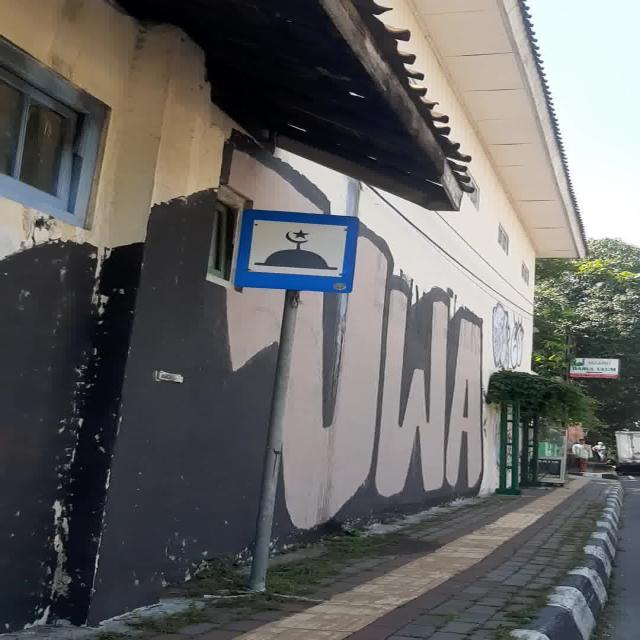Masjid: (233, 208, 359, 294)
